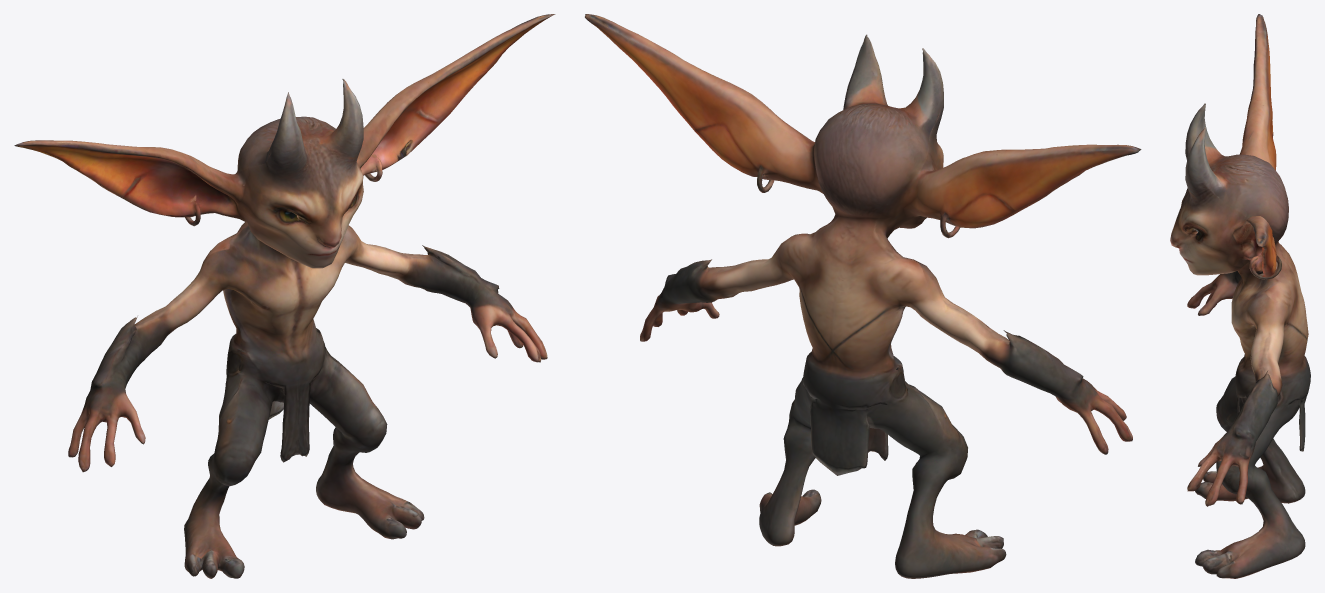
Rendered from goblin_raider.glb.
3 views of the same model, side by side, from view 1: azimuth 30°, elevation 25°; view 2: azimuth 150°, elevation 25°; view 3: azimuth 270°, elevation 25° (orthographic). The views are drawn at different scales.
Bounding box in the file's own units: 2 × 1.69 × 0.513.
Materials: 1 (1 with a texture image).
